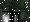person: (3, 9, 12, 22), (14, 10, 20, 22)
